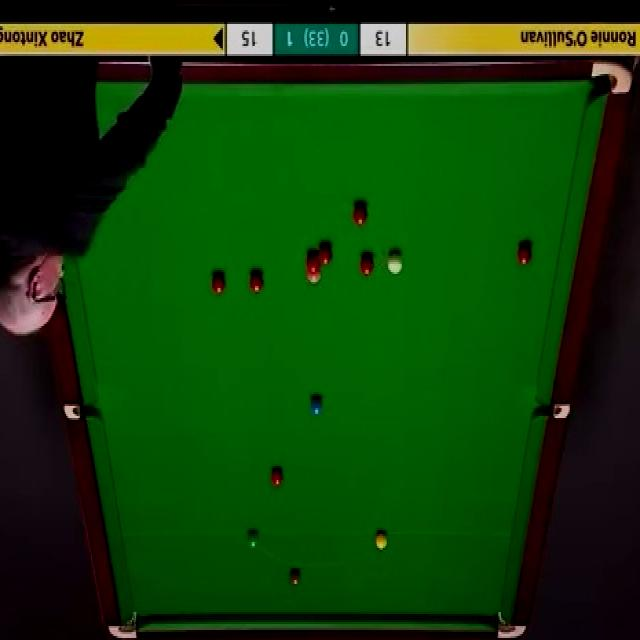blue-ball: (310, 397, 323, 416)
brown-ball: (290, 569, 302, 587)
green-ball: (247, 530, 260, 551)
pink-ball: (308, 266, 322, 282)
red-ball: (517, 244, 534, 268), (210, 273, 227, 296), (353, 202, 368, 227), (248, 272, 265, 294), (318, 243, 334, 266), (360, 255, 375, 278), (271, 466, 284, 487), (306, 253, 321, 269)
white-ball: (387, 252, 403, 276)
yellow-ball: (376, 532, 388, 550)
